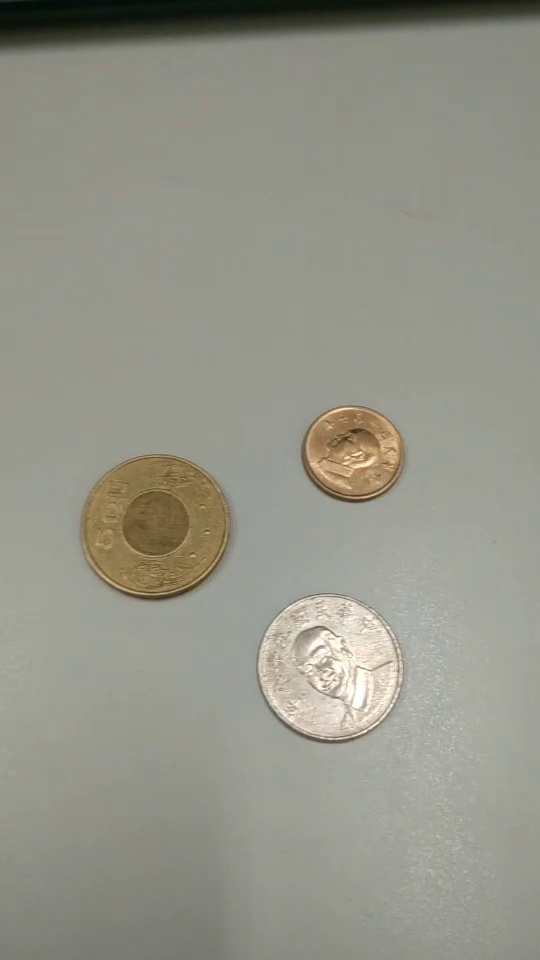NT$ 1: (302, 406, 404, 504)
NT$ 10: (258, 591, 405, 743)
NT$ 50: (80, 454, 233, 601)
